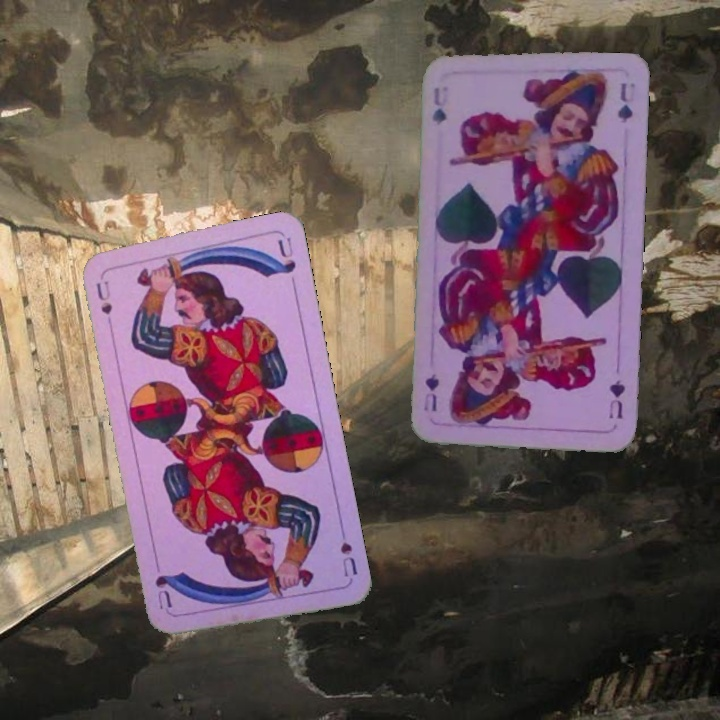GU: (605, 376, 628, 422), (428, 83, 449, 127)
SU: (92, 270, 115, 317), (336, 538, 360, 580)
